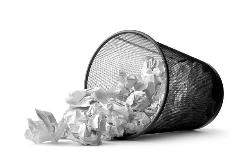paper: (59, 86, 109, 146), (24, 108, 66, 144)
